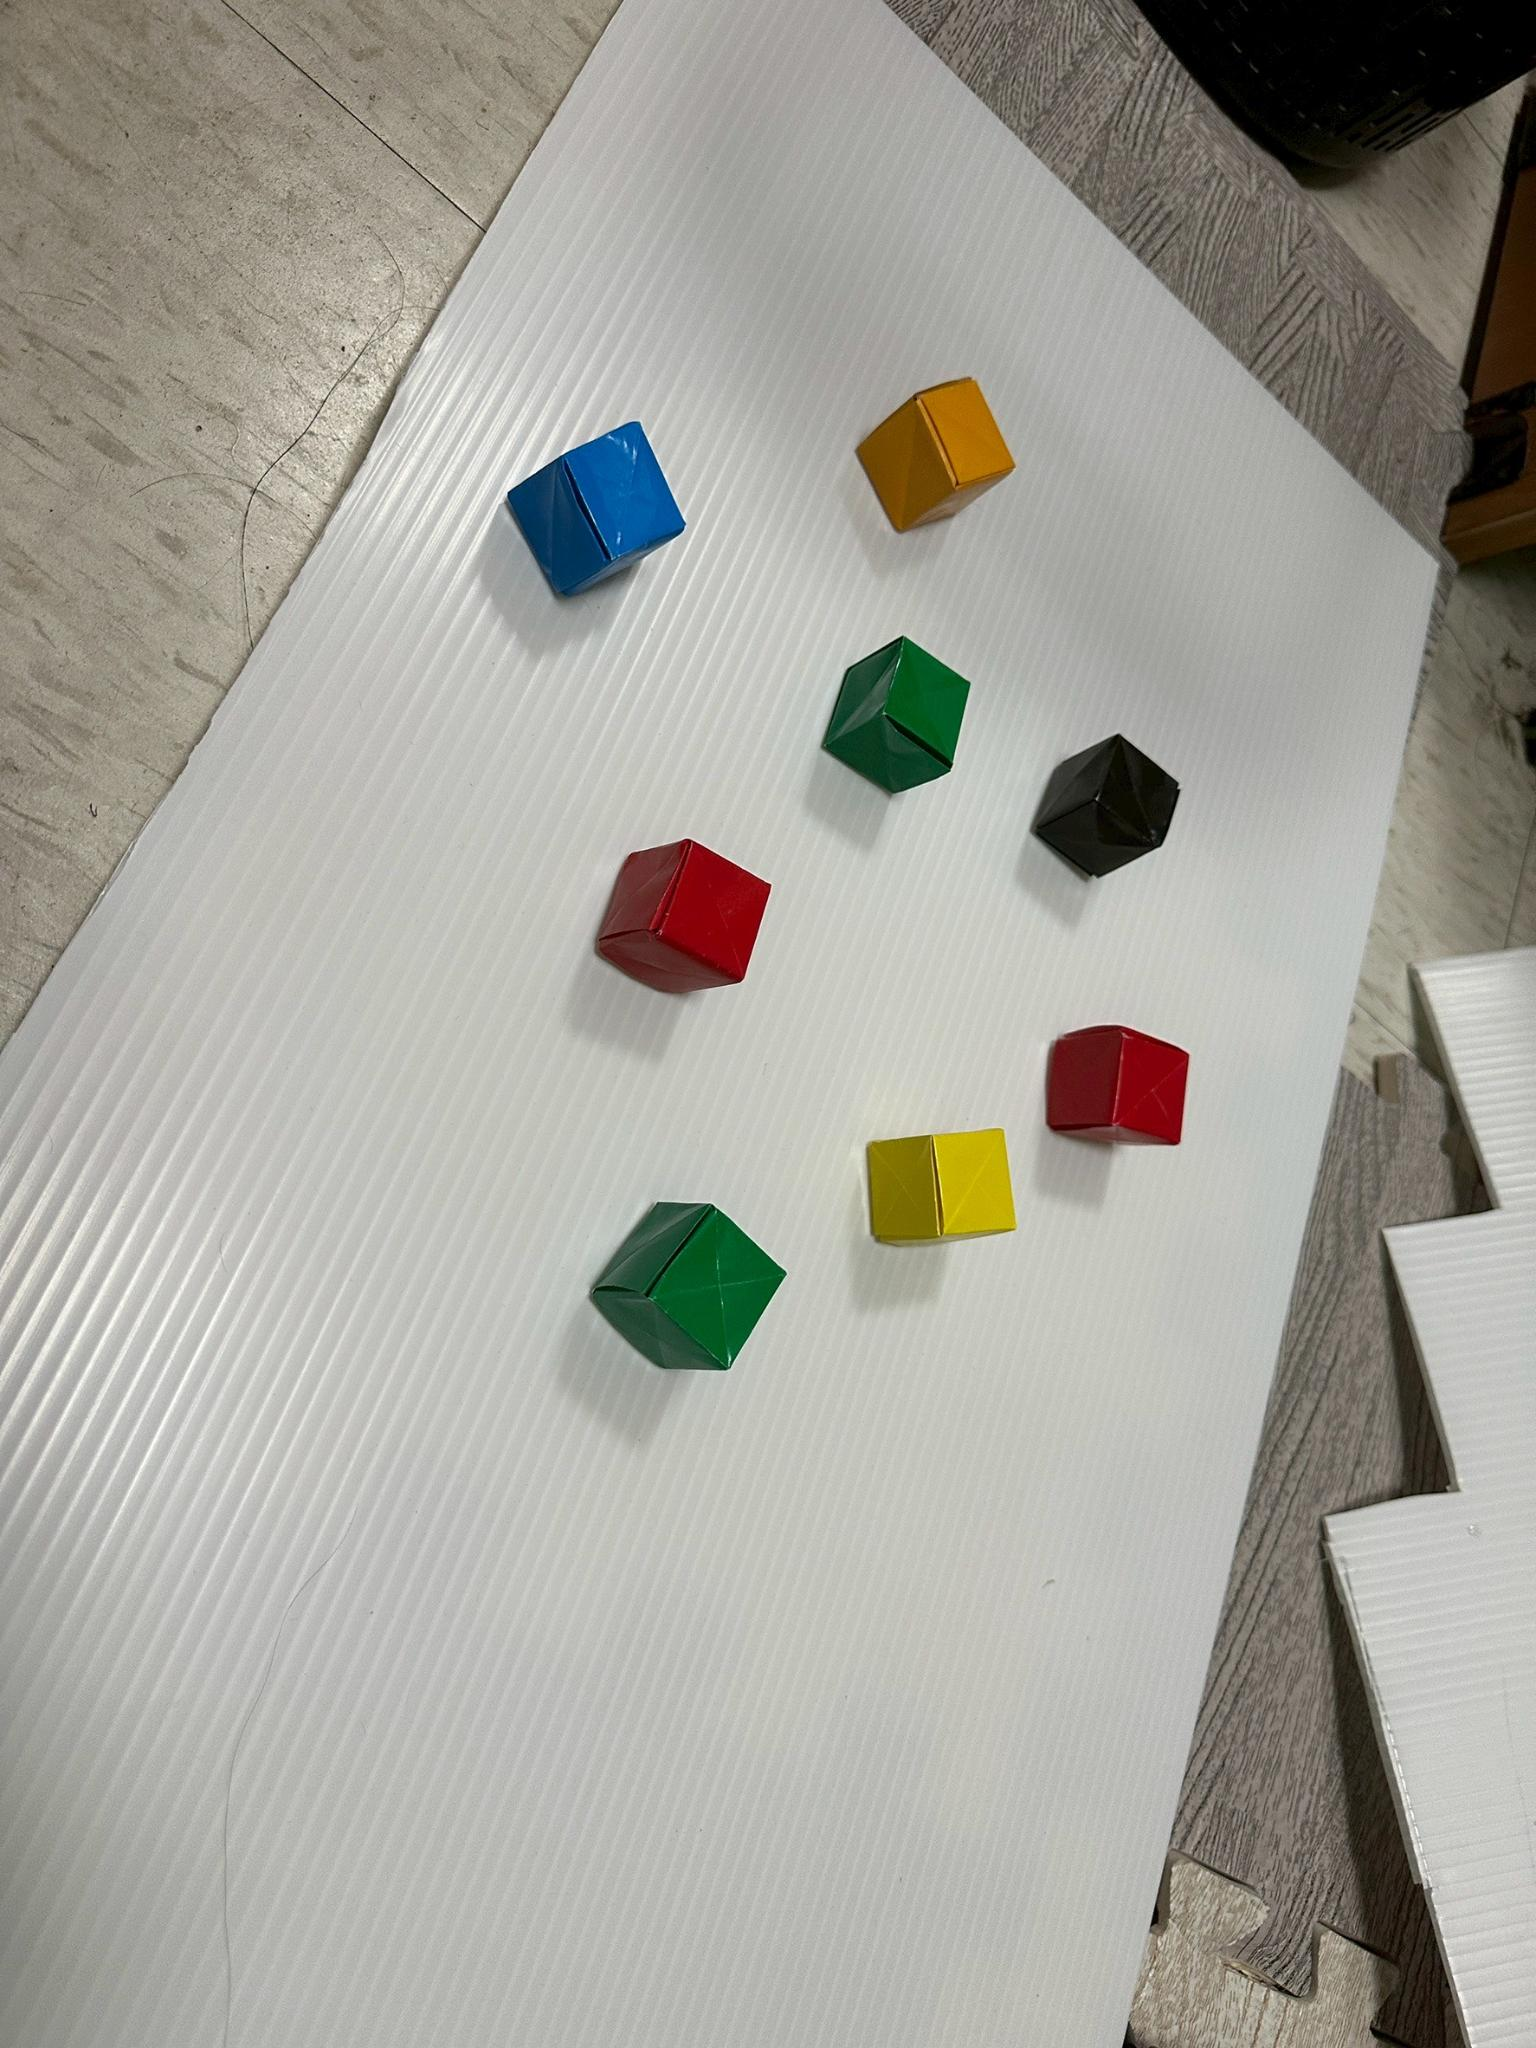base: (591, 1201, 784, 1369), (507, 421, 686, 597), (597, 839, 770, 992), (855, 377, 1015, 531), (824, 637, 970, 793), (1033, 735, 1179, 876), (866, 1129, 1015, 1243), (1047, 1026, 1189, 1145)
